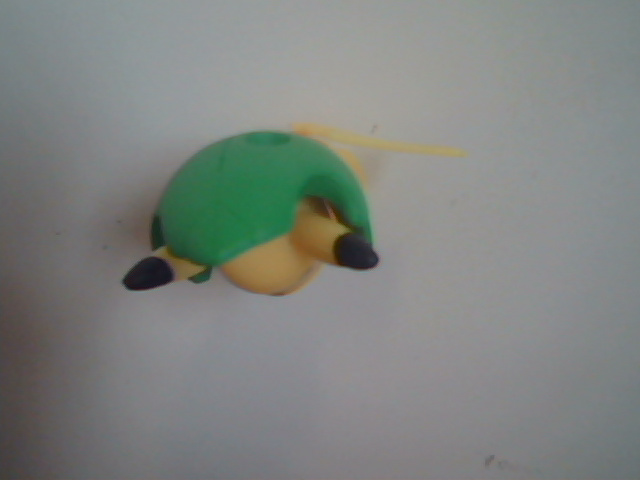pikachu: (113, 55, 486, 423)
